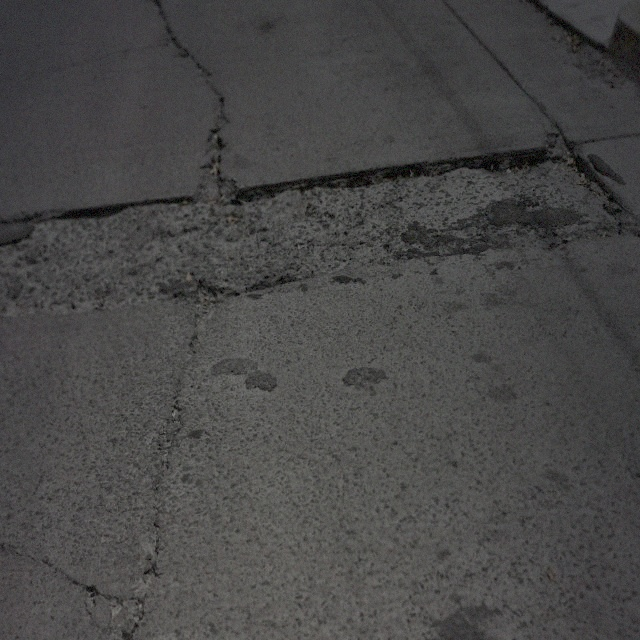pothole: (194, 124, 244, 206), (474, 134, 544, 172), (62, 204, 128, 218), (83, 588, 104, 612), (112, 596, 123, 614)
